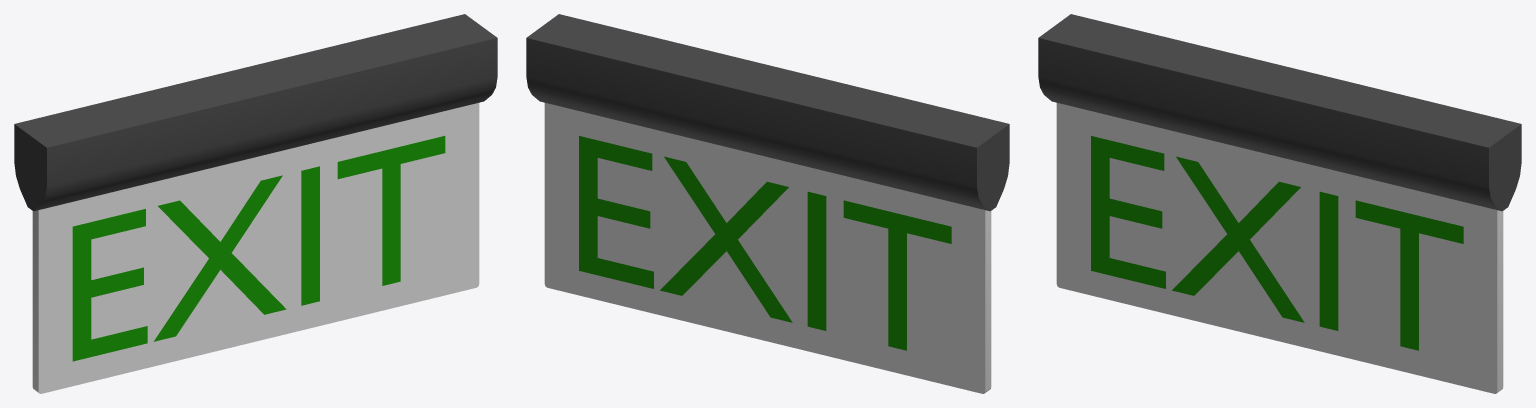
Rendered from ExitSign.fbx.
The picture shows the model from 3 angles, left to right: view 1: azimuth 30°, elevation 25°; view 2: azimuth 150°, elevation 25°; view 3: azimuth 330°, elevation 25°; orthographic projection.
Parts seen in each view (by area): view 1: ExitSign; view 2: ExitSign; view 3: ExitSign.
Part boxes in pixels (bbox=[...]): ExitSign: bbox=[14, 14, 497, 393]; ExitSign: bbox=[526, 14, 1009, 393]; ExitSign: bbox=[1038, 14, 1521, 393].
Size of the model in its own units: 51.14 by 27.96 by 6.41.
